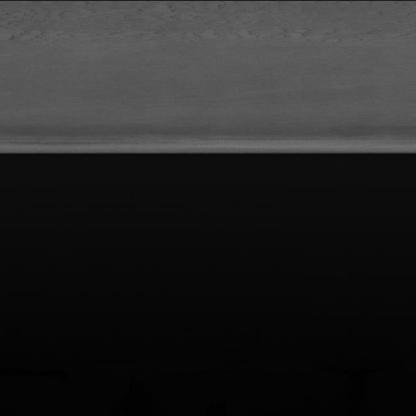silk_spot: (76, 8, 378, 58)
